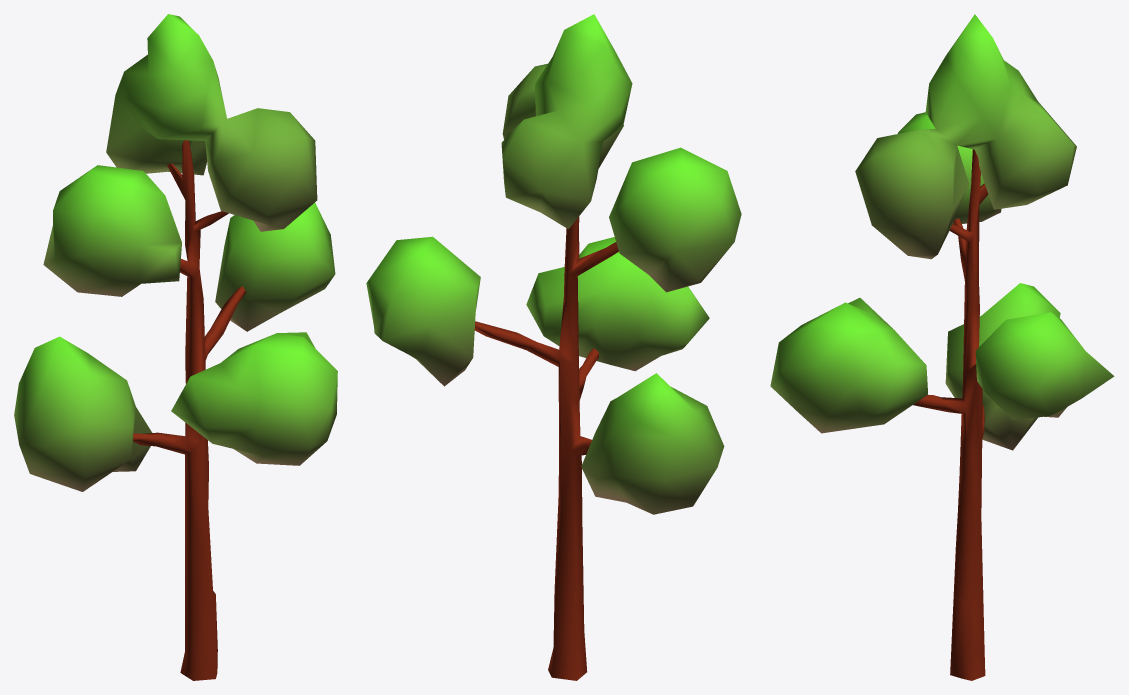
File: Plants_Tree_3.fbx
The picture shows the model from 3 angles, left to right: view 1: azimuth 30°, elevation 25°; view 2: azimuth 150°, elevation 25°; view 3: azimuth 270°, elevation 25°; orthographic projection. The views are drawn at different scales.
Parts seen in each view (by area): view 1: Plants_Tree_3_LOD0; view 2: Plants_Tree_3_LOD0; view 3: Plants_Tree_3_LOD0.
Boxes of the visible parts, x1,y1,x2,y2 form: Plants_Tree_3_LOD0: (14, 14, 337, 680); Plants_Tree_3_LOD0: (366, 14, 741, 680); Plants_Tree_3_LOD0: (770, 14, 1114, 680).
Size of what is drawn, in the model's own units: 430 by 826 by 400.
